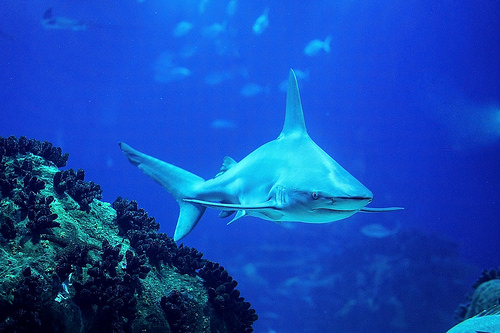shark: (101, 49, 408, 253)
